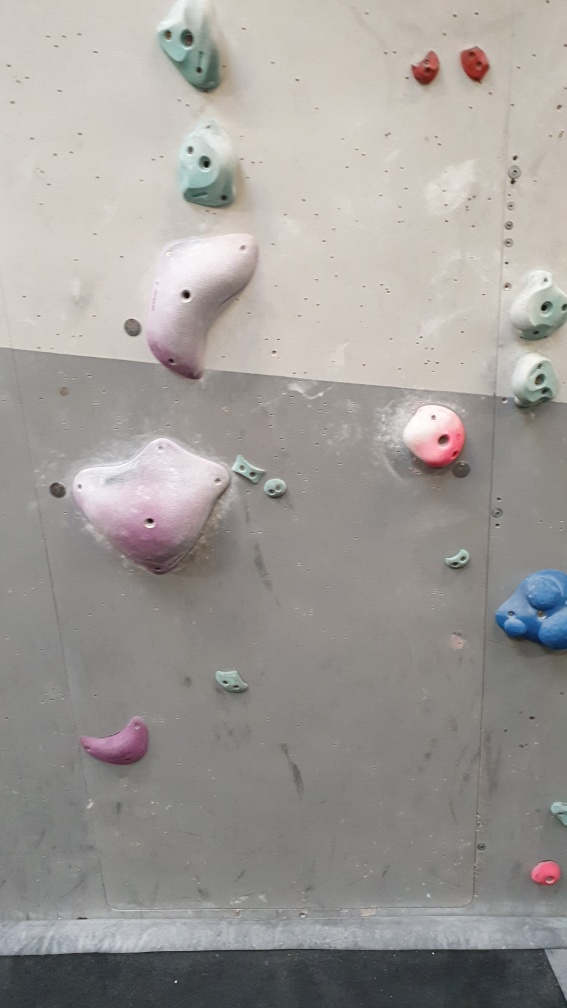Crimp: (453, 44, 496, 83), (410, 50, 443, 87)
Hand Start: (45, 478, 71, 504), (448, 456, 474, 480), (120, 315, 141, 339)
Jug: (176, 114, 242, 209), (161, 1, 226, 92), (398, 396, 467, 470), (507, 262, 567, 341), (511, 352, 563, 412)
Pinch: (226, 451, 264, 483)
Sloper: (498, 562, 567, 652)
